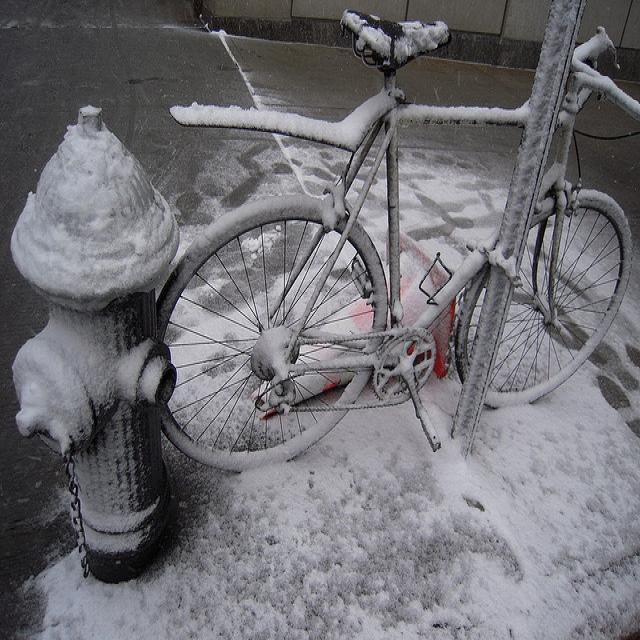bicycle: (156, 3, 635, 464)
fire_hydrant: (9, 104, 180, 583)
